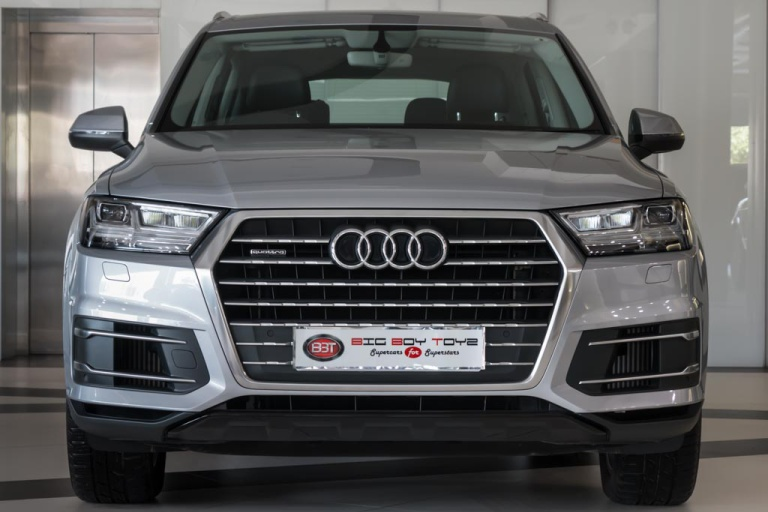audi: (325, 220, 449, 272)
